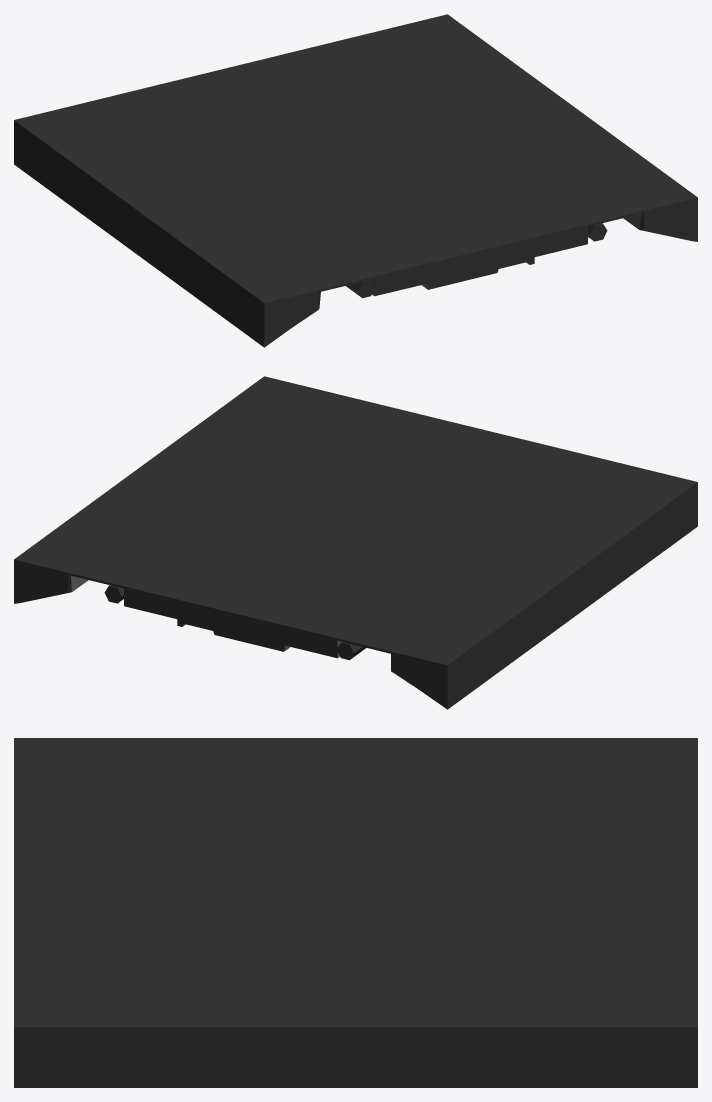
Rendered from space_SM_Bld_Ceiling_01.gltf.
3 renders of one model, top to bottom at view 1: azimuth 30°, elevation 25°; view 2: azimuth 150°, elevation 25°; view 3: azimuth 270°, elevation 25°, orthographic. The views are drawn at different scales.
Visible parts, largest first — view 1: SM_Bld_Ceiling_01; view 2: SM_Bld_Ceiling_01; view 3: SM_Bld_Ceiling_01.
Boxes of the visible parts, box(x1,y1,x2,y2) form: SM_Bld_Ceiling_01: box(14, 14, 697, 347); SM_Bld_Ceiling_01: box(14, 376, 697, 709); SM_Bld_Ceiling_01: box(14, 738, 697, 1087).
Size of what is drawn, in the model's own units: 5 by 0.4892 by 5.
1 material, 1 textured.
